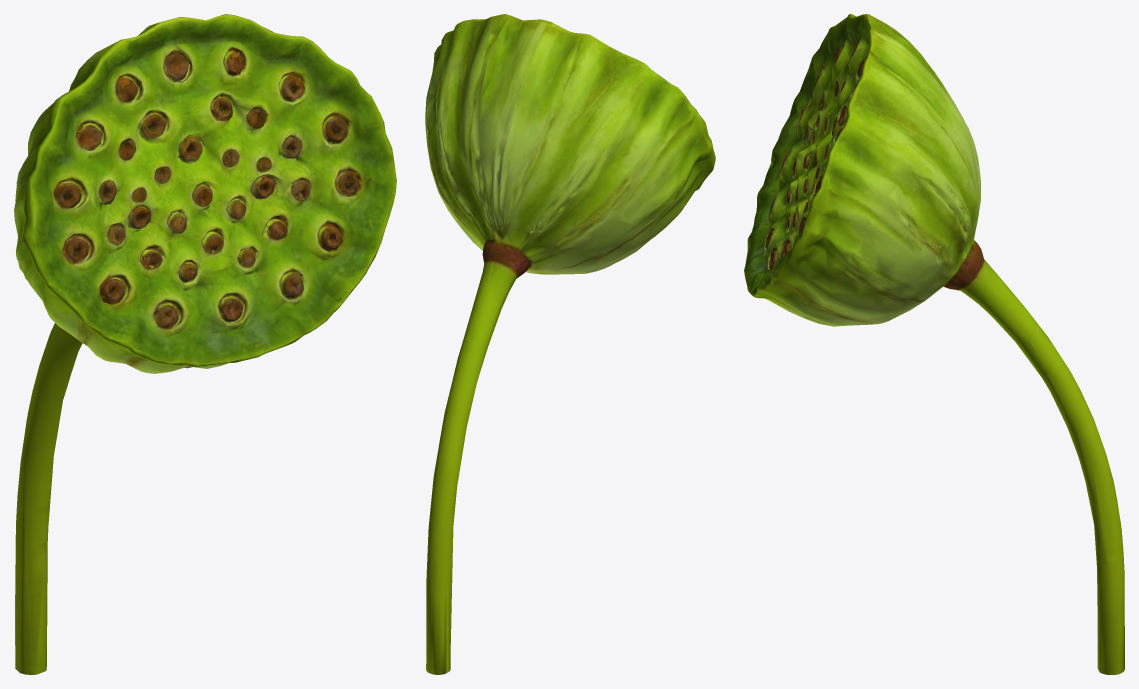
Rendered from pod.glb.
3 views of the same model, side by side, from view 1: azimuth 30°, elevation 25°; view 2: azimuth 150°, elevation 25°; view 3: azimuth 270°, elevation 25° (orthographic). The views are drawn at different scales.
Bounding box in the file's own units: 0.9719 × 1.9 × 1.03.
1 material, 1 textured.
